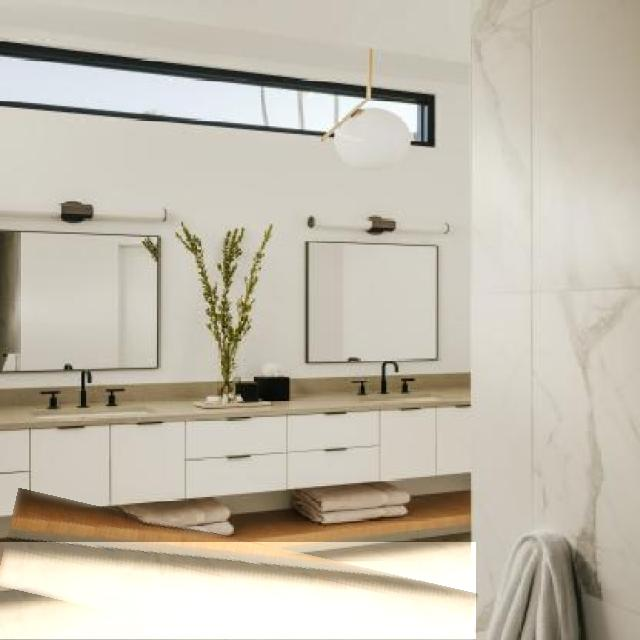floor: (0, 542, 476, 640)
